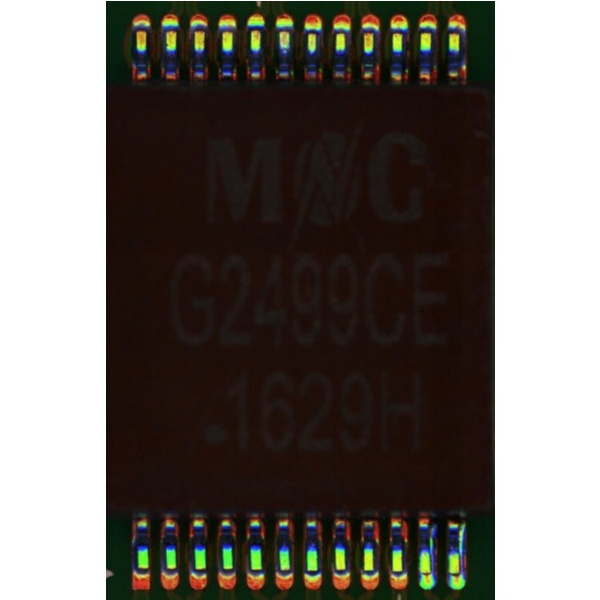Bad_podu: (449, 568, 459, 579), (421, 567, 431, 578)
Bad_qiaojiao: (428, 522, 435, 569), (458, 522, 464, 572)
